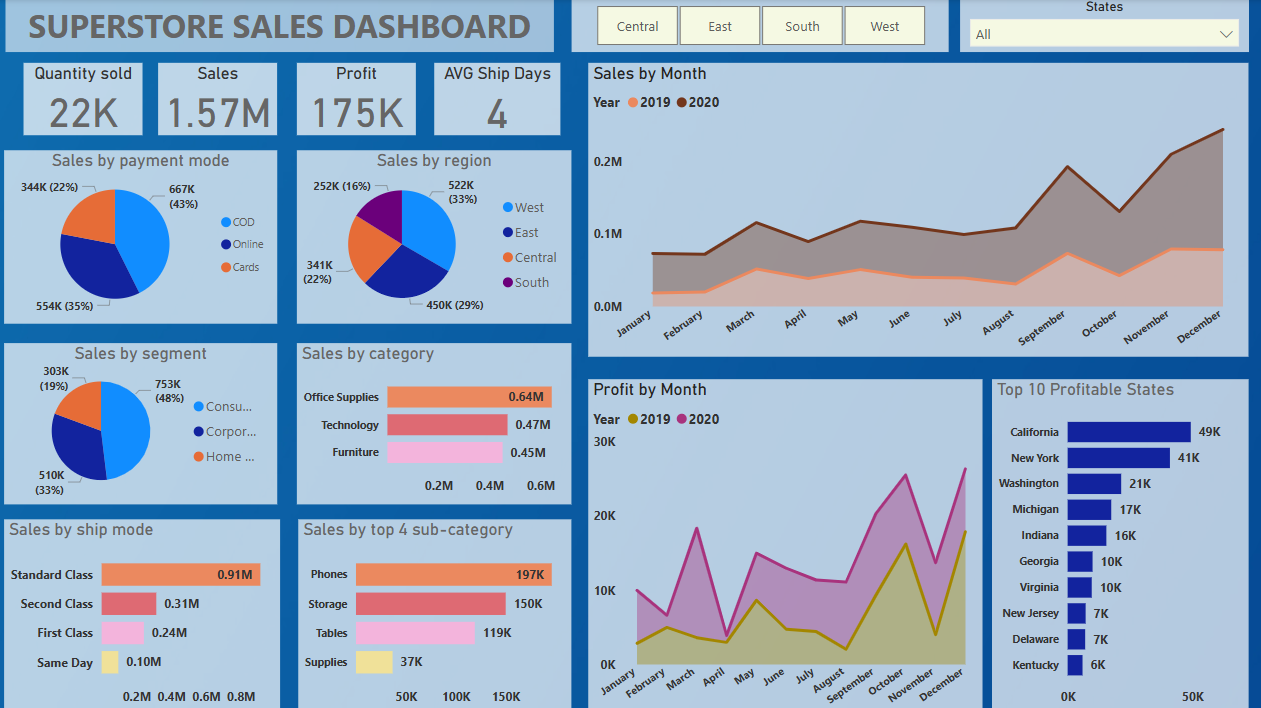

What the dashboard file says about the page in this screenshot:
{"tool":"powerbi","page":{"name":"Page 1","canvas":[1280,720],"ordinal":0},"visuals":[{"type":"textbox","box":[12.6,0,551,53],"z":0},{"type":"card","title":"Quantity sold","fields":{"Values":["Sum(SuperStore_Sales_Dataset.Quantity)"]},"box":[30.7,64.2,120,72.5],"z":1000},{"type":"card","title":"Sales","fields":{"Values":["Sum(SuperStore_Sales_Dataset.Sales)"]},"box":[166,64.2,120,72.5],"z":2000},{"type":"card","title":"Profit","fields":{"Values":["Sum(SuperStore_Sales_Dataset.Profit)"]},"box":[305.5,64.2,120,72.5],"z":3000},{"type":"card","title":"AVG Ship Days","fields":{"Values":["Avg(SuperStore_Sales_Dataset.AVG_Delivery)"]},"box":[443.6,64.2,126.9,72.5],"z":4000},{"type":"slicer","fields":{"Values":["SuperStore_Sales_Dataset.Region"]},"box":[581.7,0,379.4,53],"z":5000},{"type":"pieChart","title":"Sales by payment mode","fields":{"Category":["SuperStore_Sales_Dataset.Payment Mode"],"Y":["Sum(SuperStore_Sales_Dataset.Sales)"]},"box":[11.2,152,274.8,174.4],"z":6000},{"type":"pieChart","title":"Sales by region","fields":{"Y":["Sum(SuperStore_Sales_Dataset.Sales)"],"Category":["SuperStore_Sales_Dataset.Region"]},"box":[305.5,152,276.2,174.4],"z":7000},{"type":"pieChart","title":"Sales by segment","fields":{"Y":["Sum(SuperStore_Sales_Dataset.Sales)"],"Category":["SuperStore_Sales_Dataset.Segment"]},"box":[11.2,345.9,274.8,161.8],"z":8000},{"type":"barChart","title":"Sales by ship mode","fields":{"Category":["SuperStore_Sales_Dataset.Ship Mode"],"Y":["Sum(SuperStore_Sales_Dataset.Sales)"]},"box":[11.2,523.1,277.6,196.7],"z":9000},{"type":"barChart","title":"Sales by category","fields":{"Y":["Sum(SuperStore_Sales_Dataset.Sales)"],"Category":["SuperStore_Sales_Dataset.Category"]},"box":[305.5,345.9,276.2,161.8],"z":10000},{"type":"barChart","title":"Sales by top 4 sub-category","fields":{"Y":["Sum(SuperStore_Sales_Dataset.Sales)"],"Category":["SuperStore_Sales_Dataset.Sub-Category"]},"box":[306.9,523.1,274.8,196.7],"z":11000},{"type":"stackedAreaChart","title":"Sales by Month","fields":{"Y":["Sum(SuperStore_Sales_Dataset.Sales)"],"Category":["SuperStore_Sales_Dataset.Order Date.Variation.Date Hierarchy.Month"],"Series":["SuperStore_Sales_Dataset.Order Date.Variation.Date Hierarchy.Year"]},"box":[598.4,64.2,664,295.7],"z":12000},{"type":"stackedAreaChart","title":"Profit by Month","fields":{"Category":["SuperStore_Sales_Dataset.Order Date.Variation.Date Hierarchy.Month"],"Series":["SuperStore_Sales_Dataset.Order Date.Variation.Date Hierarchy.Year"],"Y":["Sum(SuperStore_Sales_Dataset.Profit)"]},"box":[598.4,382.2,396.2,337.6],"z":13000},{"type":"barChart","title":"Top 10 Profitable States","fields":{"Category":["SuperStore_Sales_Dataset.State"],"Y":["Sum(SuperStore_Sales_Dataset.Profit)"]},"box":[1004.3,382.2,258.1,337.6],"z":14000},{"type":"slicer","title":"States","fields":{"Values":["SuperStore_Sales_Dataset.State"]},"box":[972.3,0,290.1,53],"z":14001}]}

Visuals, with their boxes in screenshot pixels (x1, y1, x2, y2), scaled from the page's 1280x720 canvas onto the 1261x708 screenshot:
textbox: left=12, top=0, right=555, bottom=52
"Quantity sold" card: left=30, top=63, right=148, bottom=134
"Sales" card: left=164, top=63, right=282, bottom=134
"Profit" card: left=301, top=63, right=419, bottom=134
"AVG Ship Days" card: left=437, top=63, right=562, bottom=134
slicer - SuperStore_Sales_Dataset.Region: left=573, top=0, right=947, bottom=52
"Sales by payment mode" pieChart: left=11, top=149, right=282, bottom=321
"Sales by region" pieChart: left=301, top=149, right=573, bottom=321
"Sales by segment" pieChart: left=11, top=340, right=282, bottom=499
"Sales by ship mode" barChart: left=11, top=514, right=285, bottom=707
"Sales by category" barChart: left=301, top=340, right=573, bottom=499
"Sales by top 4 sub-category" barChart: left=302, top=514, right=573, bottom=707
"Sales by Month" stackedAreaChart: left=590, top=63, right=1244, bottom=354
"Profit by Month" stackedAreaChart: left=590, top=376, right=980, bottom=707
"Top 10 Profitable States" barChart: left=989, top=376, right=1244, bottom=707
"States" slicer: left=958, top=0, right=1244, bottom=52
